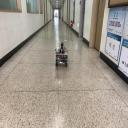cart: (55, 50, 68, 67)
